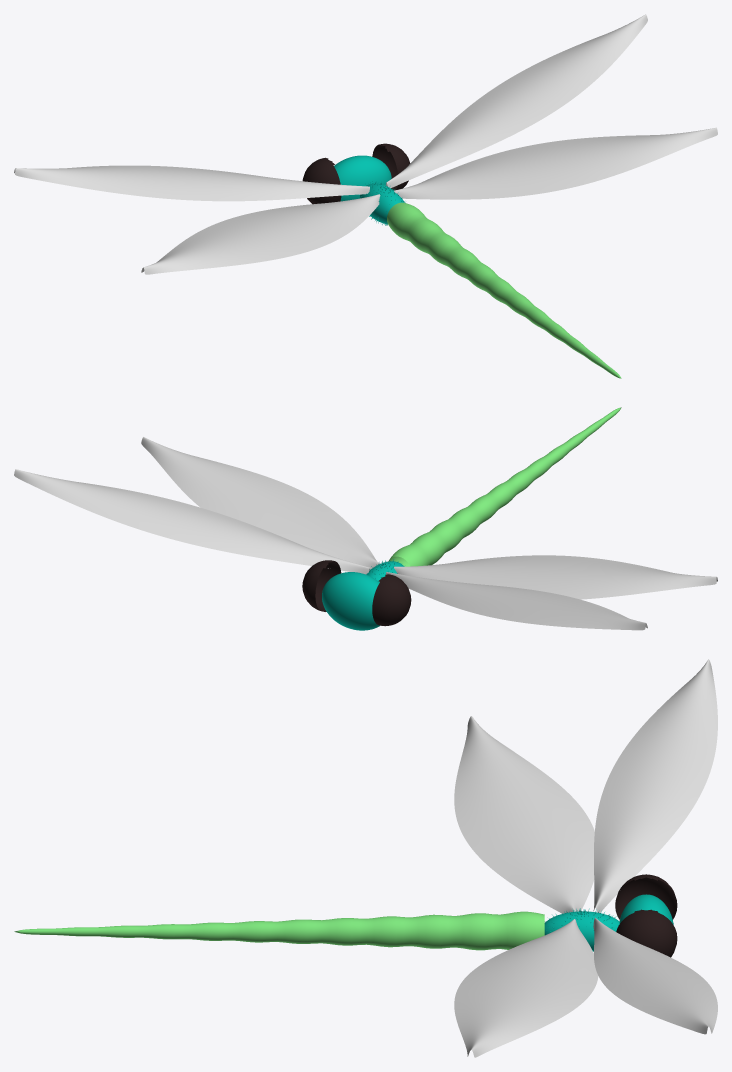
3 renders of one model, top to bottom at view 1: azimuth 30°, elevation 25°; view 2: azimuth 150°, elevation 25°; view 3: azimuth 270°, elevation 25°, orthographic. The views are drawn at different scales.
Parts seen in each view (by area): view 1: hindwing, forewing, hindwing.001, forewing.001, abdomen, head, compound_eye.001, thorax, compound_eye; view 2: hindwing, forewing, hindwing.001, forewing.001, abdomen, head, compound_eye.001, compound_eye, thorax; view 3: hindwing.001, forewing.001, hindwing, abdomen, forewing, compound_eye, compound_eye.001, thorax, head.
Boxes of the visible parts, x1,y1,x2,y2 form: hindwing: (394,127,717,199); forewing: (385,14,647,187); hindwing.001: (141,194,380,274); forewing.001: (14,165,369,201); abdomen: (387,202,621,378); head: (334,155,391,201); compound_eye.001: (302,157,341,204); thorax: (358,181,405,225); compound_eye: (372,143,410,190); hindwing: (141,437,380,569); forewing: (14,469,369,574); hindwing.001: (394,555,717,599); forewing.001: (386,572,647,630); abdomen: (388,407,621,566); head: (322,572,379,630); compound_eye.001: (372,574,411,626); compound_eye: (302,560,341,611); thorax: (366,559,404,582); hindwing.001: (454,716,594,913); forewing.001: (593,659,717,912); hindwing: (454,919,598,1057); abdomen: (14,911,544,950); forewing: (593,917,717,1034); compound_eye: (616,909,677,957); compound_eye.001: (615,874,677,919); thorax: (544,908,619,951); head: (619,894,673,924).
Bounding box in the file's own units: 9.8 × 1.5 × 7.91.
